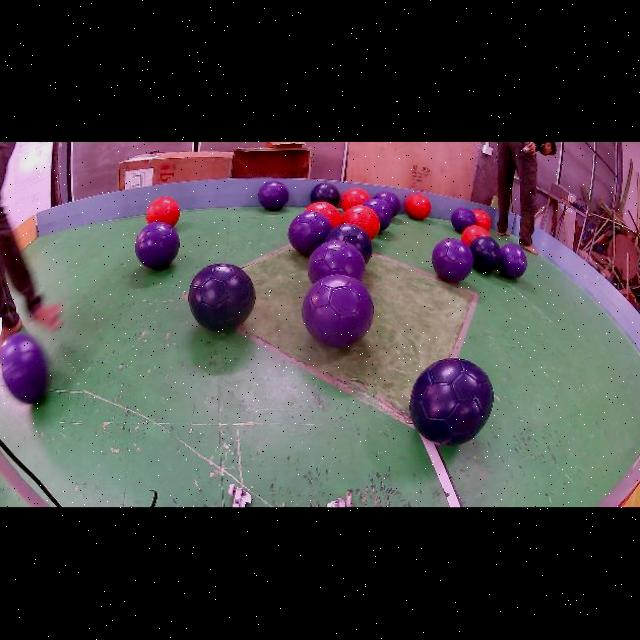B: (409, 357, 493, 444), (187, 263, 256, 330), (323, 223, 371, 259), (469, 235, 502, 272), (310, 182, 340, 204)
P: (301, 273, 374, 347), (1, 333, 49, 403), (308, 241, 365, 282), (135, 221, 180, 268), (287, 211, 333, 255), (431, 237, 473, 282), (498, 243, 527, 278), (258, 180, 289, 210), (364, 198, 393, 230), (374, 190, 402, 216), (451, 207, 477, 232)
R: (342, 204, 380, 237), (305, 201, 342, 227), (147, 196, 180, 223), (341, 187, 371, 211), (406, 192, 431, 218), (460, 225, 489, 245), (473, 208, 491, 230)
